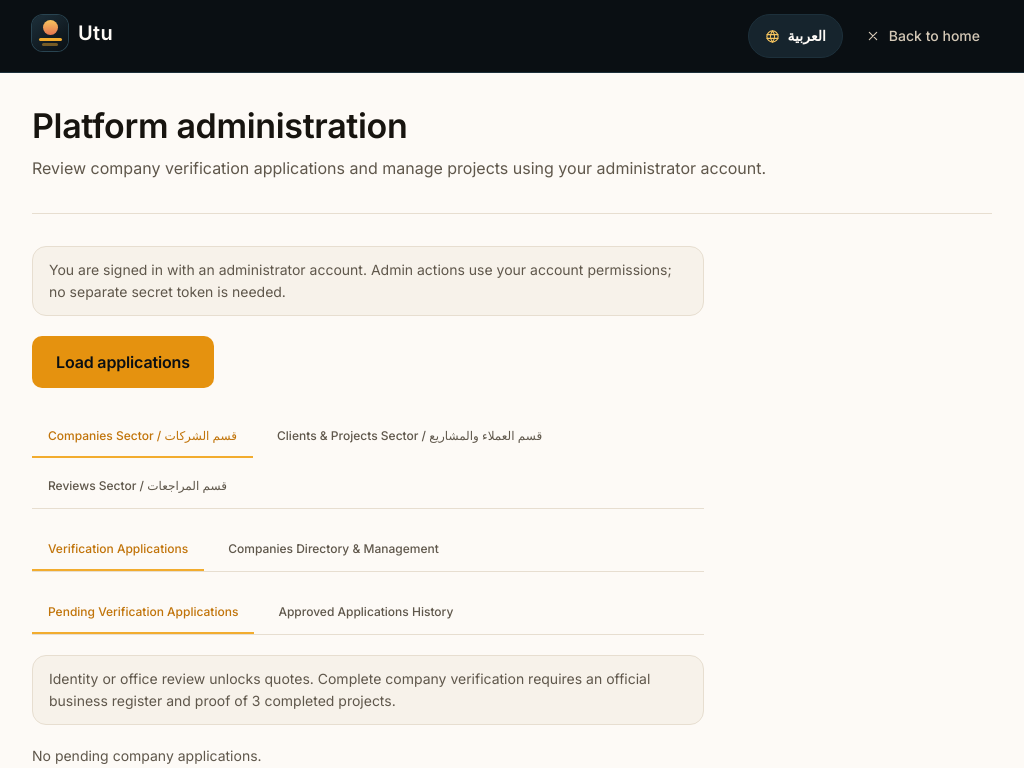
Test: CompanyPortalPage admin requirements › prompts the administrator to sign in again when the approval session expires
This screenshot has width=1024, height=768.
Click the button "Load applications". click: {"x": 123, "y": 362}
box: x1=32 y1=336 x2=214 y2=388
(page scrolled)
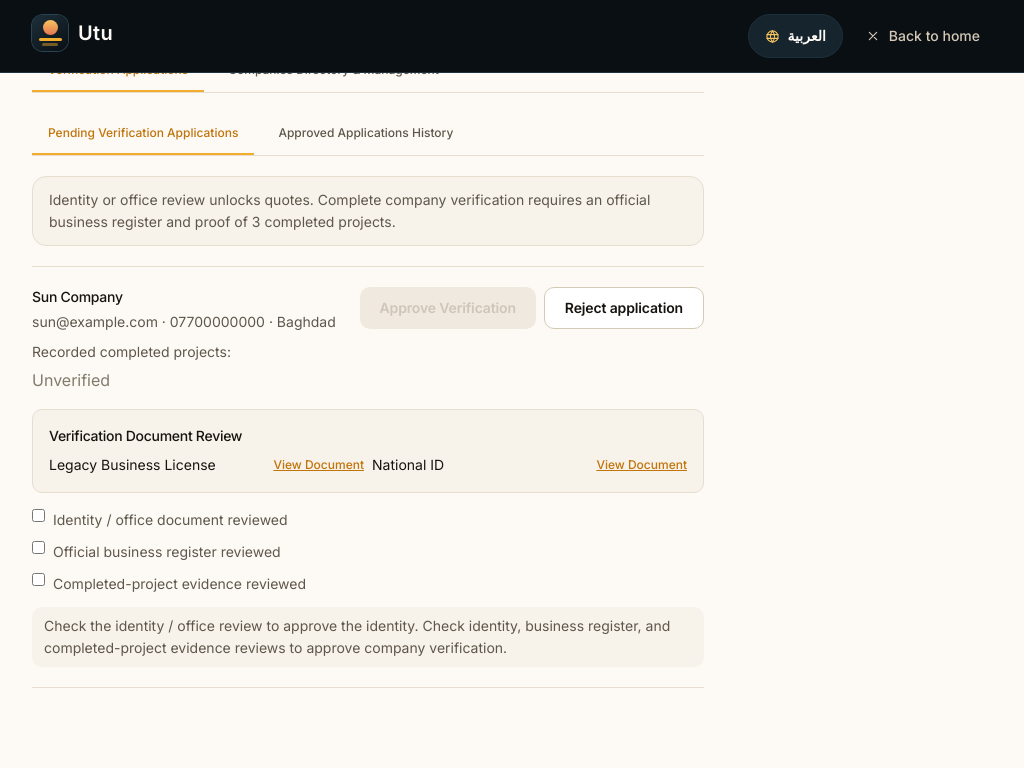
Click the checkbox labelled "Identity / office document reviewed". click: {"x": 38, "y": 516}
box: x1=32 y1=509 x2=45 y2=522
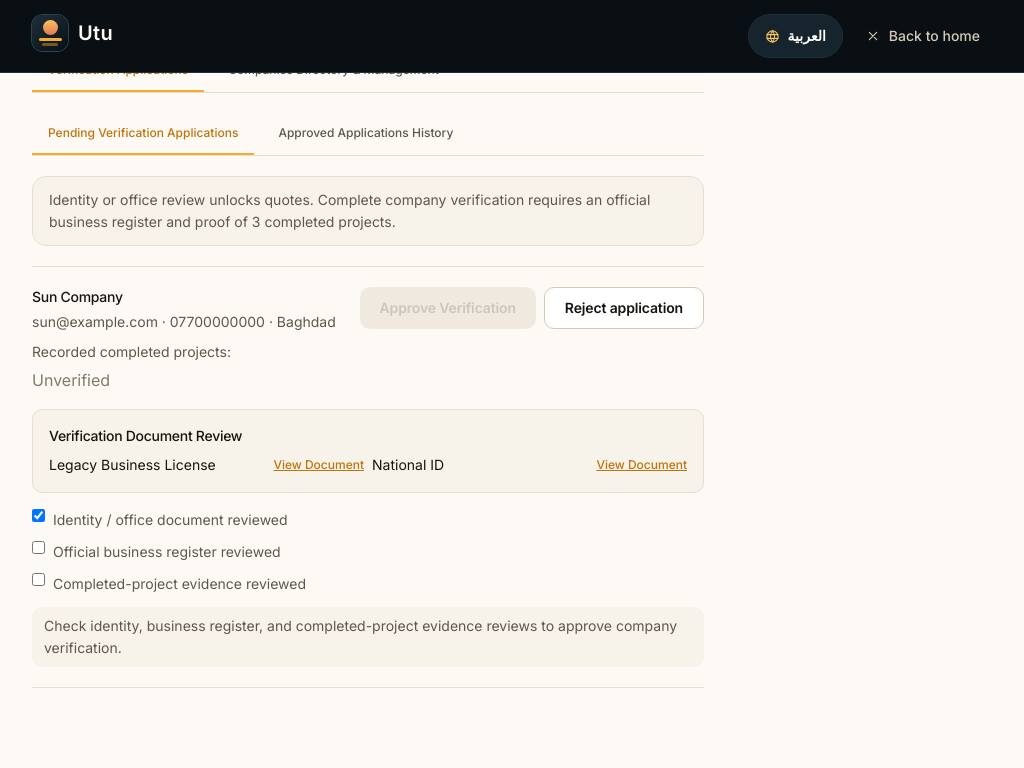
Click the checkbox labelled "Official business register reviewed". click: {"x": 38, "y": 548}
box: x1=32 y1=541 x2=45 y2=554
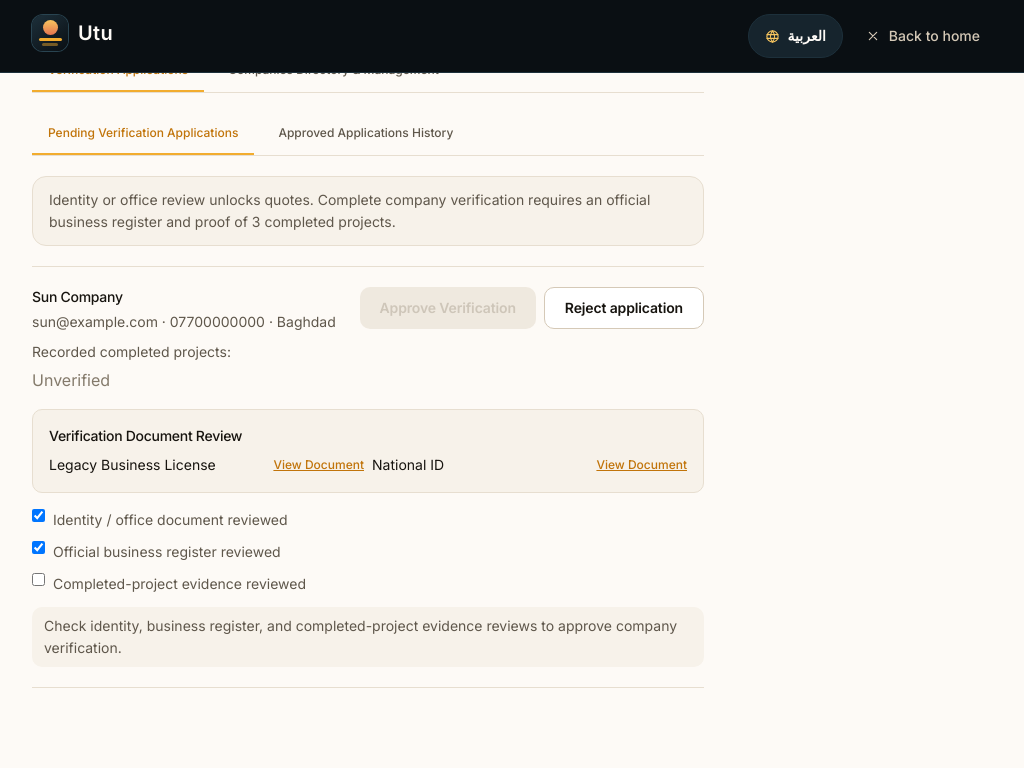
Click the checkbox labelled "Completed-project evidence reviewed". click: {"x": 38, "y": 580}
box: x1=32 y1=573 x2=45 y2=586
(page scrolled)
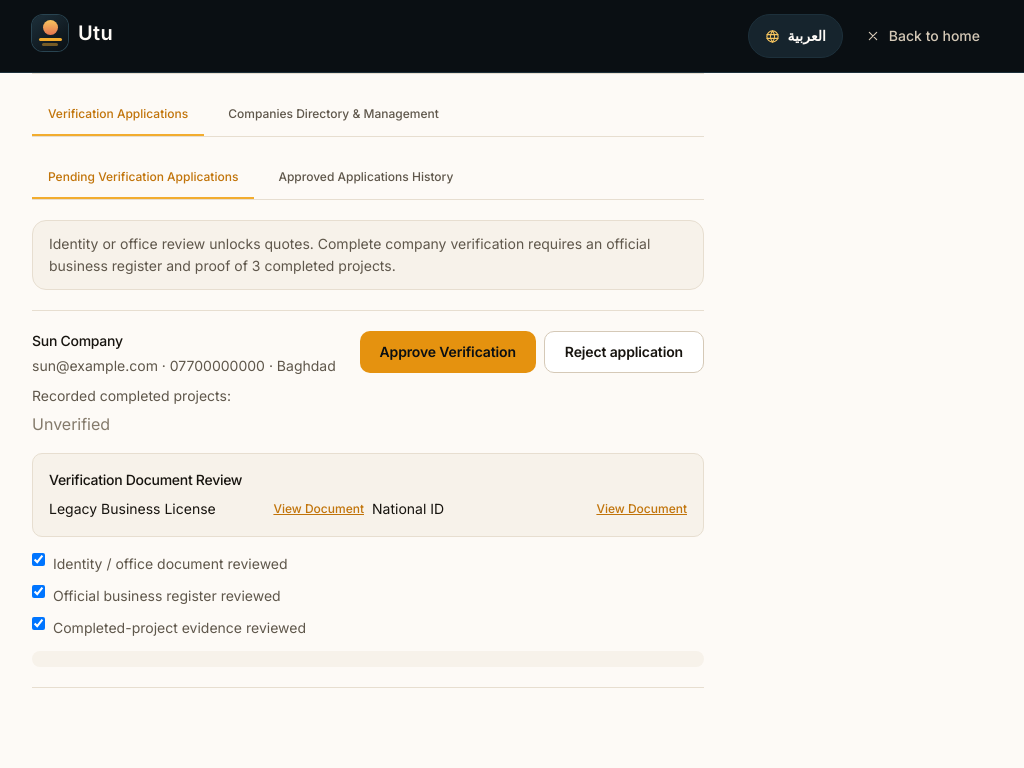
Click the button "Approve Verification". click: {"x": 448, "y": 352}
box: x1=360 y1=331 x2=536 y2=373
(page scrolled)
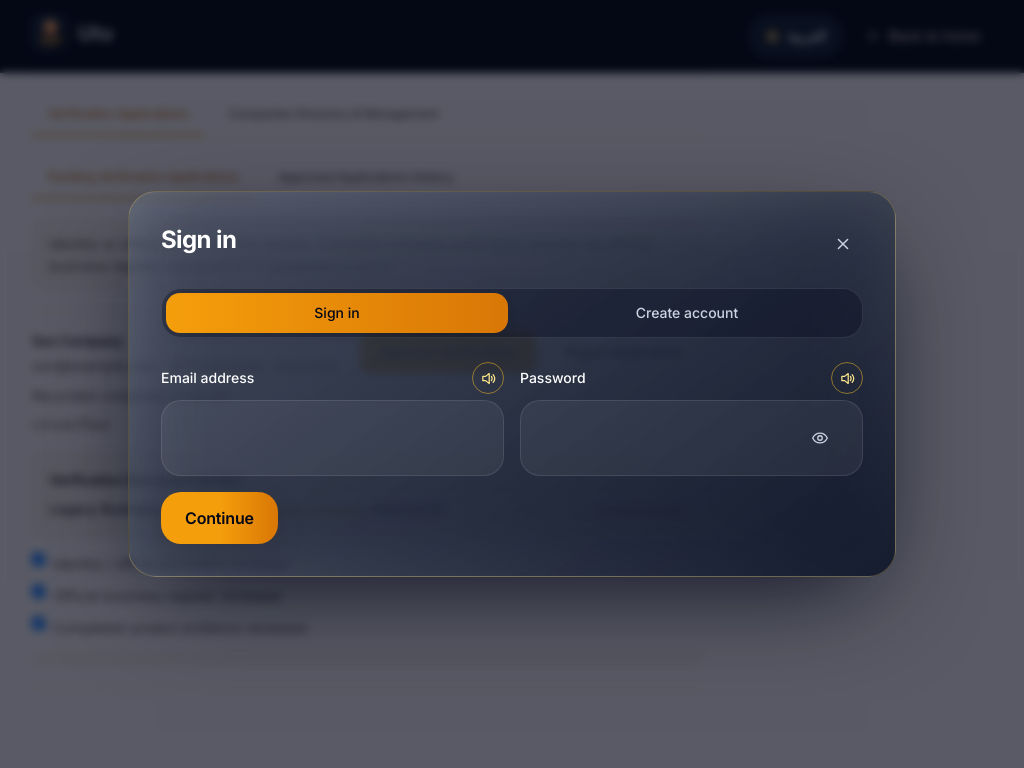
Check: the dialog is shown, box x1=128 y1=191 x2=896 y2=577
